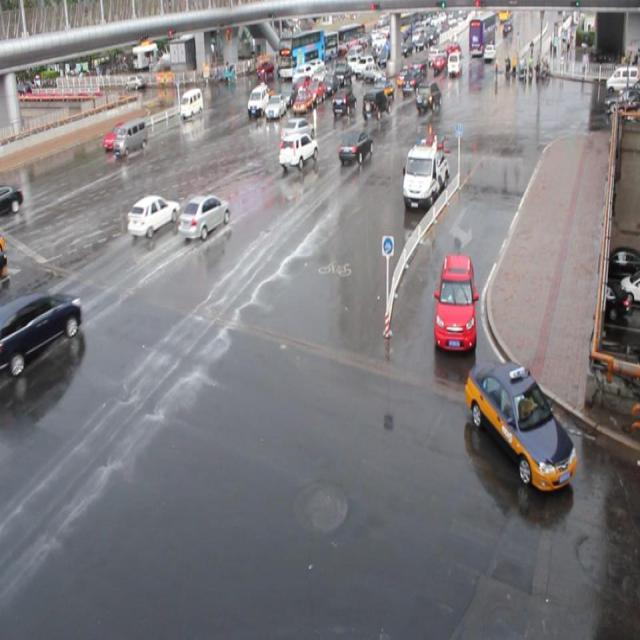bus: (401, 135, 448, 203)
car: (464, 357, 576, 489), (1, 288, 82, 366), (432, 253, 477, 350), (177, 193, 230, 240), (126, 194, 180, 238), (277, 131, 318, 169), (337, 129, 373, 163), (280, 117, 314, 145), (361, 88, 390, 120), (414, 80, 442, 112), (103, 121, 130, 149), (331, 87, 356, 116), (291, 85, 312, 112), (250, 81, 273, 105), (264, 90, 286, 115), (305, 75, 324, 99), (279, 79, 298, 101), (292, 70, 310, 92)
truck: (112, 118, 148, 156), (248, 83, 270, 114), (180, 88, 203, 117)
